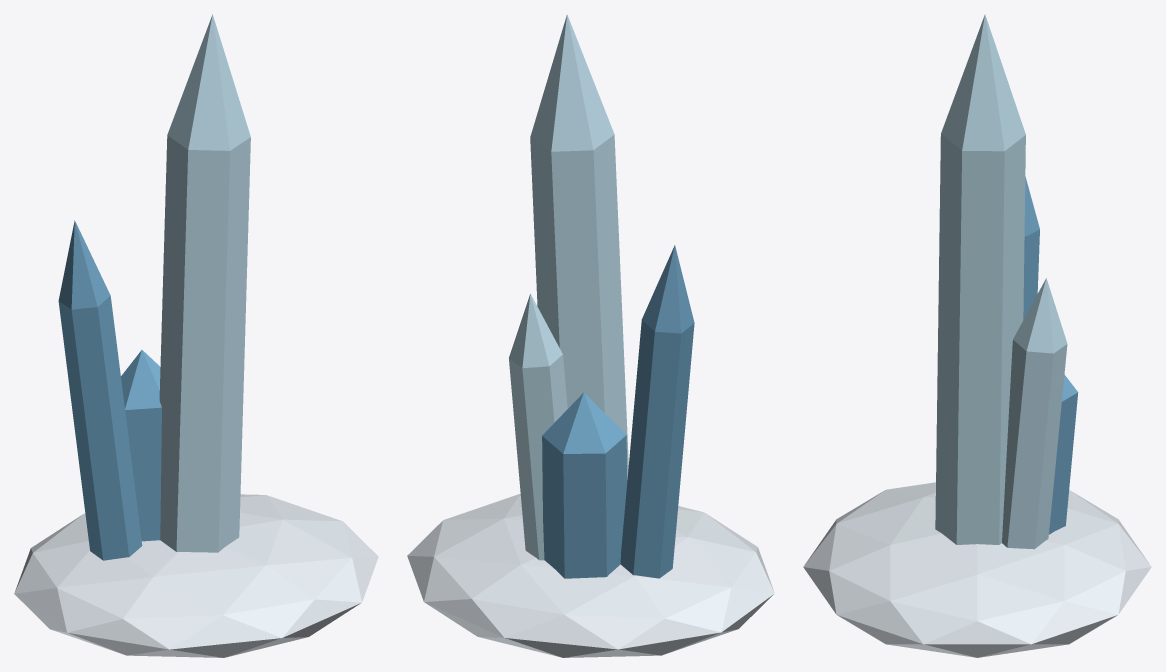
File: runtime.glb
3 renders of one model, left to right at view 1: azimuth 30°, elevation 25°; view 2: azimuth 150°, elevation 25°; view 3: azimuth 270°, elevation 25°, orthographic.
Visible parts, largest first — view 1: frozen_crystal_ice_nocol, frozen_crystal_snow_noshadow_nocol, frozen_crystal_deep_nocol; view 2: frozen_crystal_snow_noshadow_nocol, frozen_crystal_ice_nocol, frozen_crystal_deep_nocol; view 3: frozen_crystal_ice_nocol, frozen_crystal_snow_noshadow_nocol, frozen_crystal_deep_nocol.
Boxes of the visible parts, box(x1,y1,x2,y2) form: frozen_crystal_ice_nocol: box(159, 14, 250, 552); frozen_crystal_snow_noshadow_nocol: box(14, 494, 378, 657); frozen_crystal_deep_nocol: box(58, 220, 161, 560); frozen_crystal_snow_noshadow_nocol: box(407, 493, 774, 657); frozen_crystal_ice_nocol: box(509, 14, 628, 560); frozen_crystal_deep_nocol: box(542, 245, 694, 578); frozen_crystal_ice_nocol: box(935, 14, 1067, 549); frozen_crystal_snow_noshadow_nocol: box(803, 482, 1151, 657); frozen_crystal_deep_nocol: box(1023, 176, 1078, 534).
Size of the model in its own units: 2.56 by 4.66 by 2.44.
